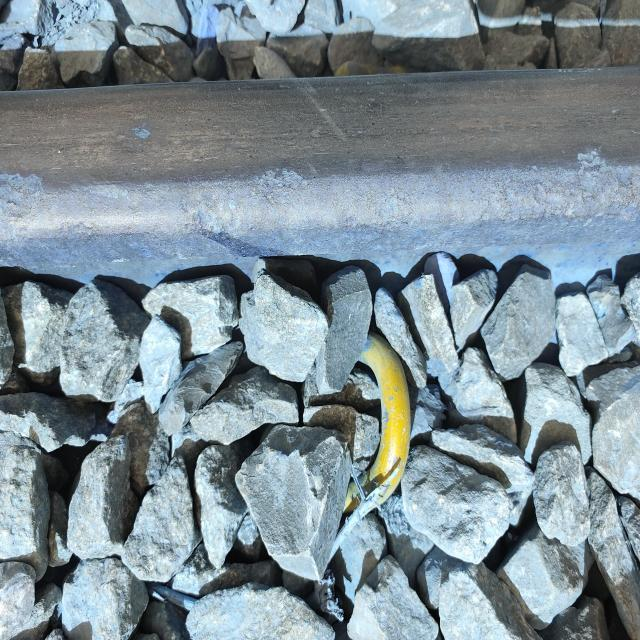Good Fasteners: (302, 332, 411, 527)
